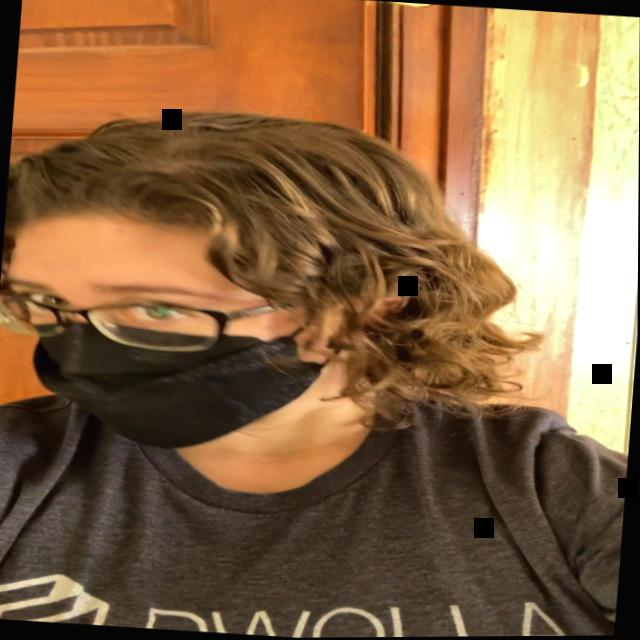Mask: (0, 194, 362, 459)
